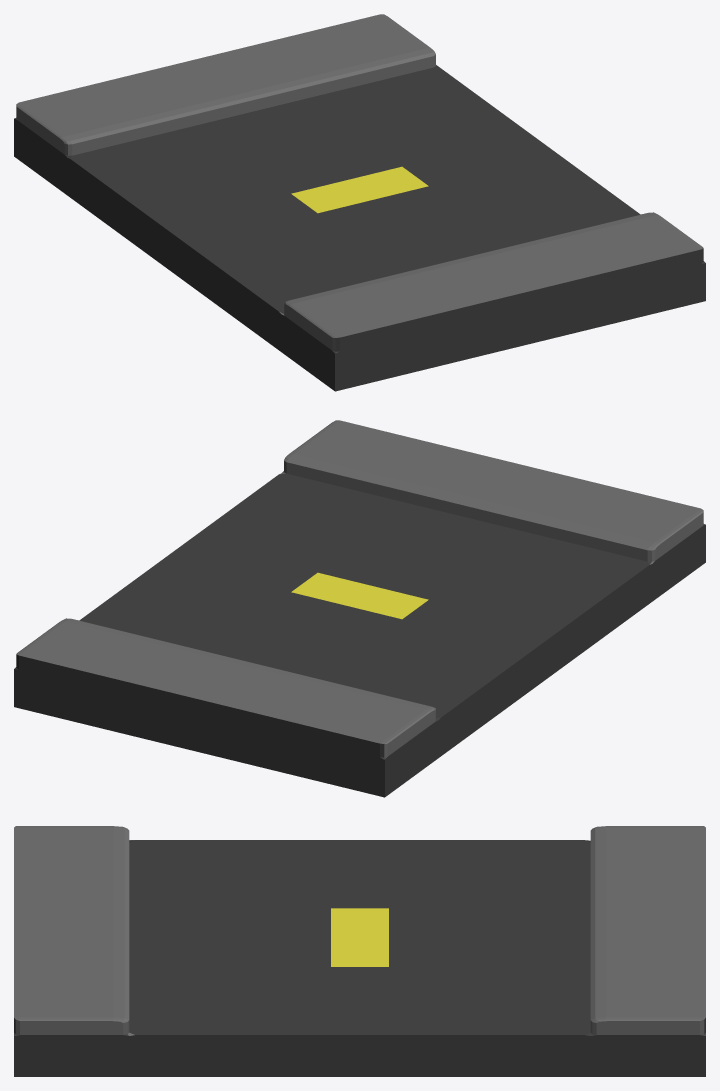
The model's file is roadTile1.glb.
The picture shows the model from 3 angles, top to bottom: view 1: azimuth 30°, elevation 25°; view 2: azimuth 150°, elevation 25°; view 3: azimuth 270°, elevation 25°; orthographic projection. The views are drawn at different scales.
Visible parts, largest first — view 1: road1; view 2: road1; view 3: road1.
Part boxes in pixels (left/top/right/bottom): road1: left=14, top=14, right=705, bottom=391; road1: left=14, top=420, right=705, bottom=797; road1: left=14, top=826, right=705, bottom=1076.
Size of the model in its own units: 2 by 0.2721 by 3.
